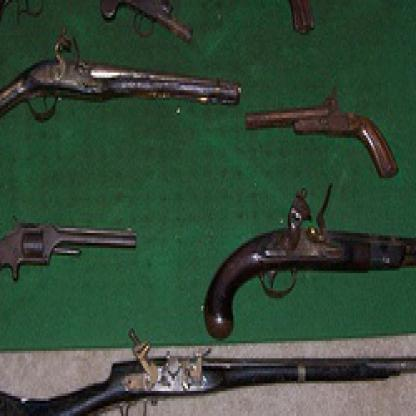gun: (200, 190, 414, 336), (244, 93, 400, 193), (0, 210, 137, 306), (0, 0, 143, 63), (213, 0, 316, 48), (102, 0, 192, 43)
